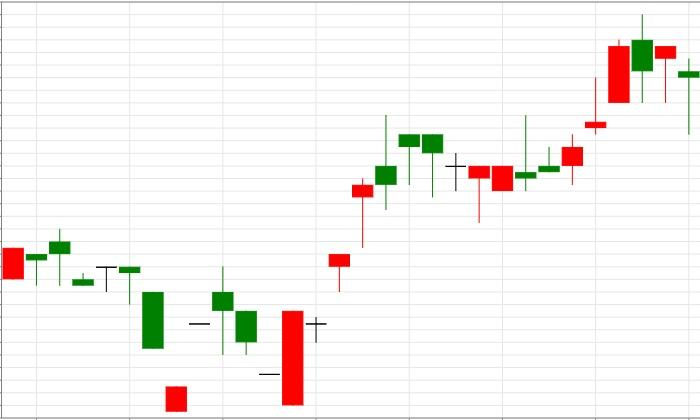hanging_man_fall: (282, 114, 443, 406)
